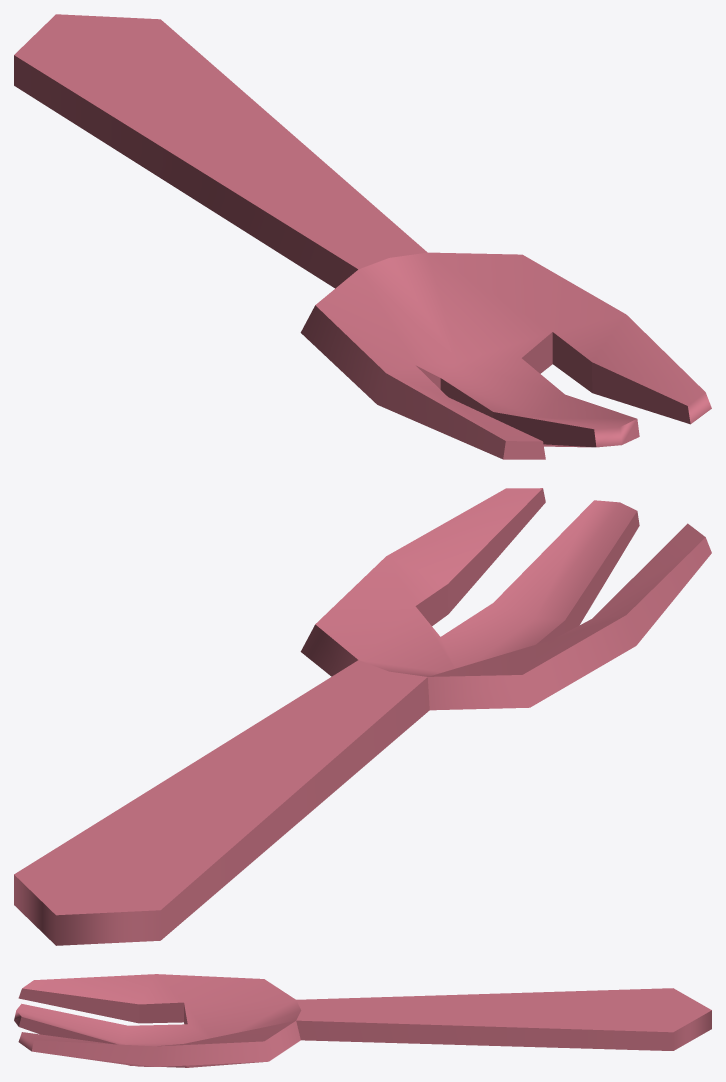
The model's file is Fork_geo.fbx.
3 renders of one model, top to bottom at view 1: azimuth 30°, elevation 25°; view 2: azimuth 150°, elevation 25°; view 3: azimuth 270°, elevation 25°, orthographic. The views are drawn at different scales.
Parts seen in each view (by area): view 1: Fork_geo; view 2: Fork_geo; view 3: Fork_geo.
Part boxes in pixels (bbox=[...]): Fork_geo: bbox=[14, 14, 711, 459]; Fork_geo: bbox=[14, 488, 711, 945]; Fork_geo: bbox=[14, 974, 711, 1067].
Size of the model in its own units: 0.1937 by 0.7324 by 0.0605.
